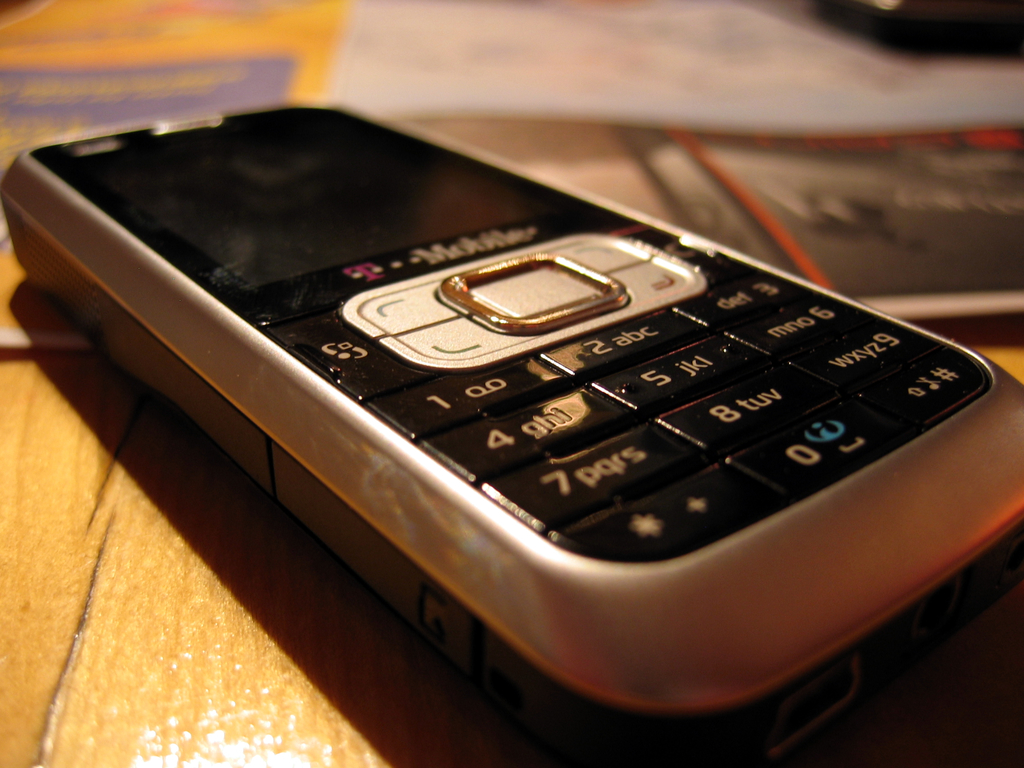Mobile-phone: (0, 100, 1024, 710)
